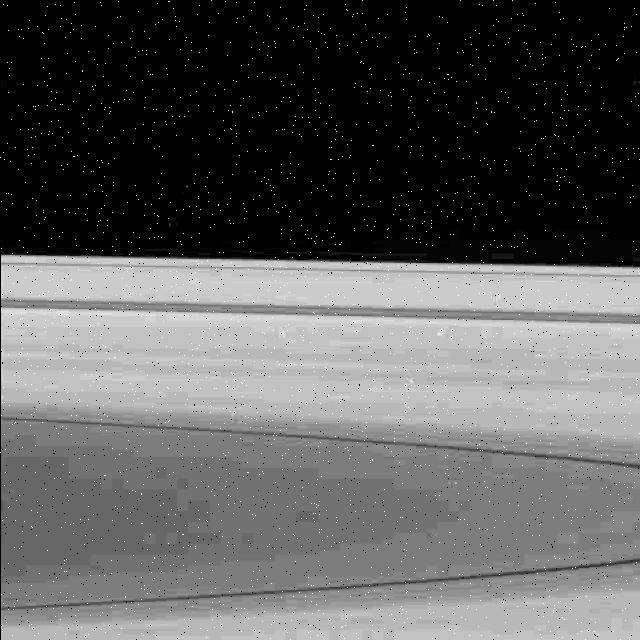Saturn: (0, 251, 640, 640)
